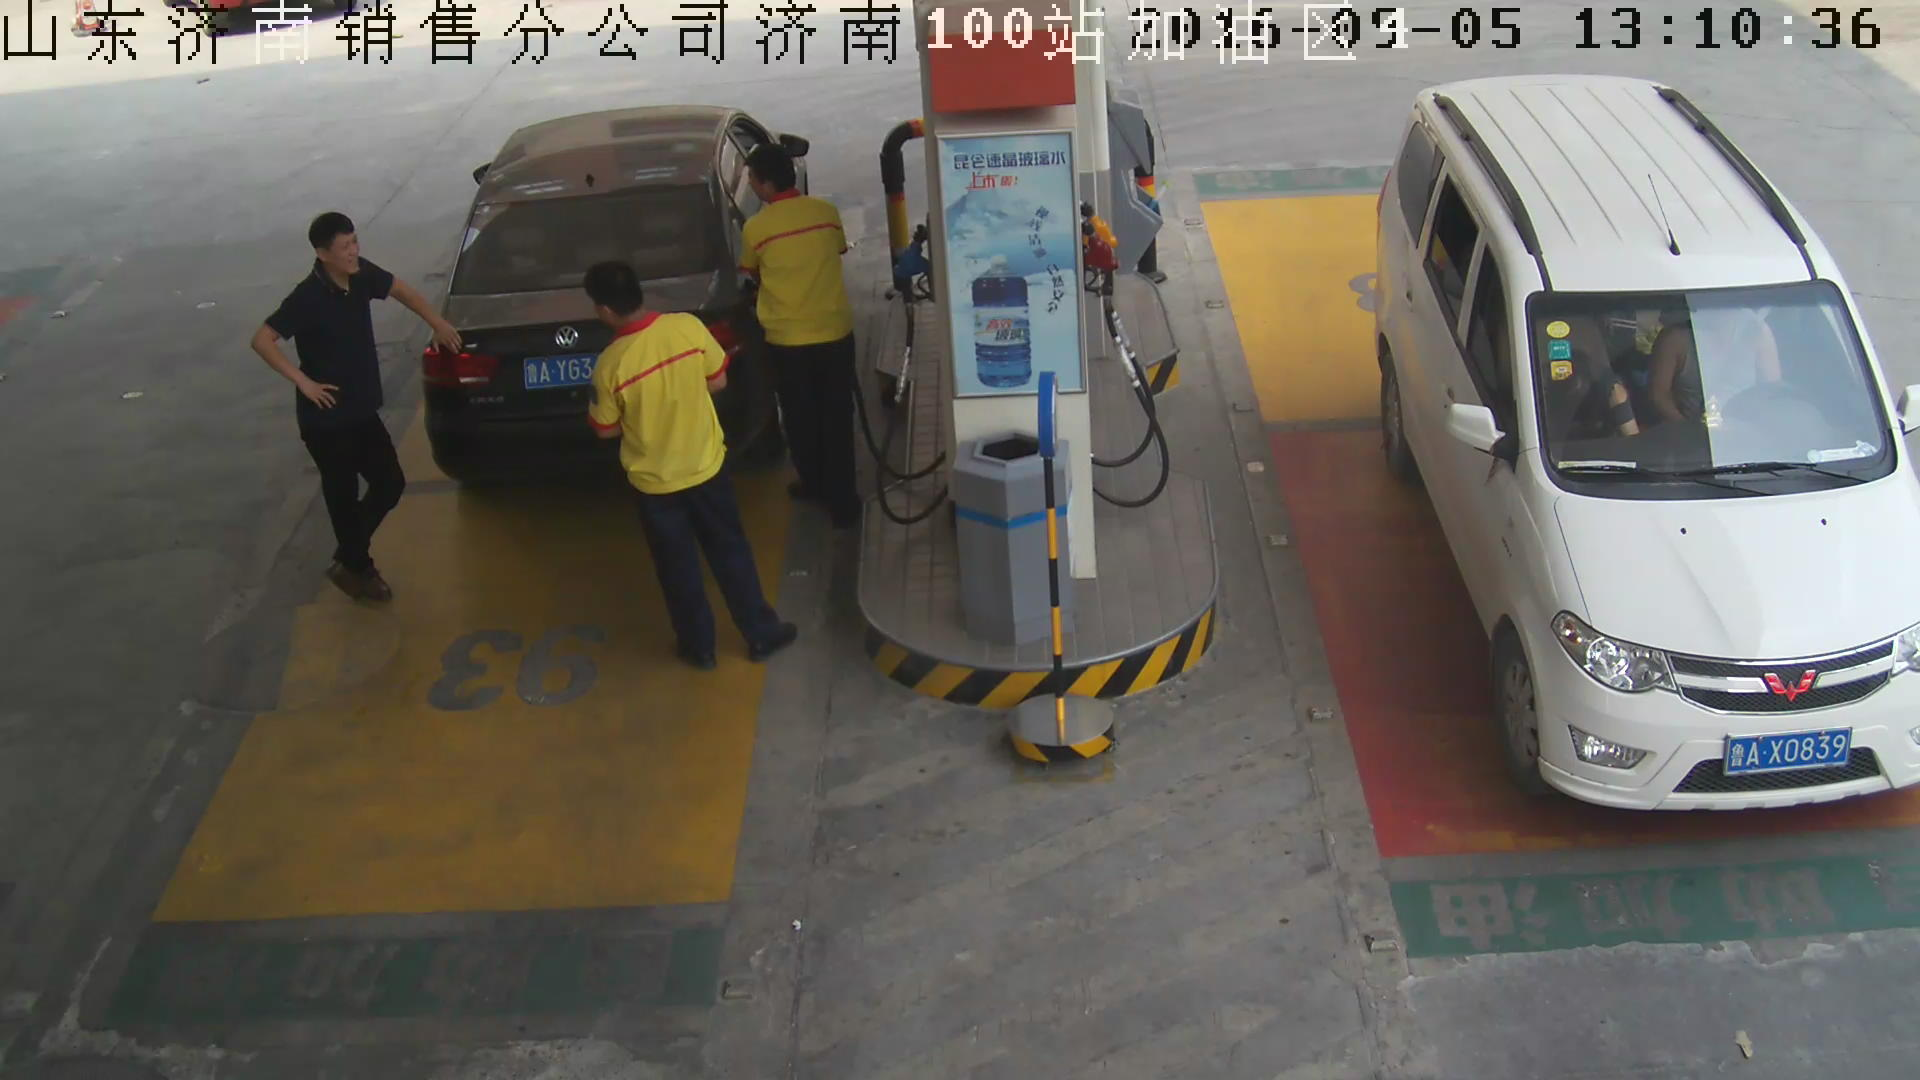blue: (1721, 729, 1854, 778)
